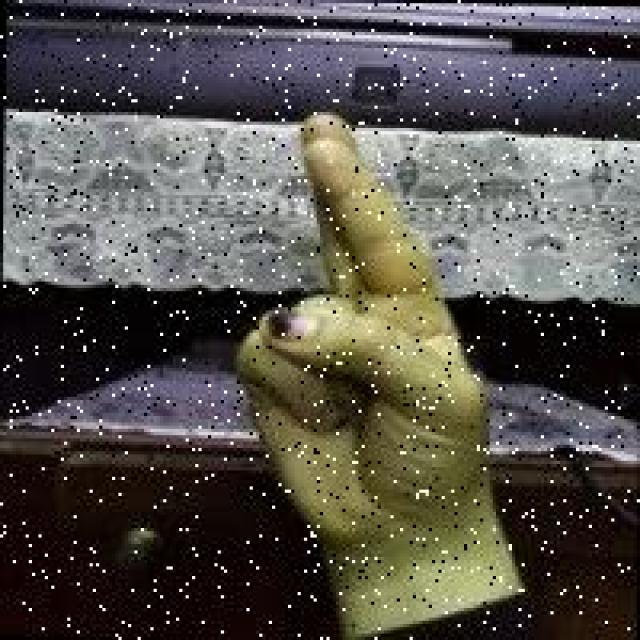R: (222, 105, 501, 550)
